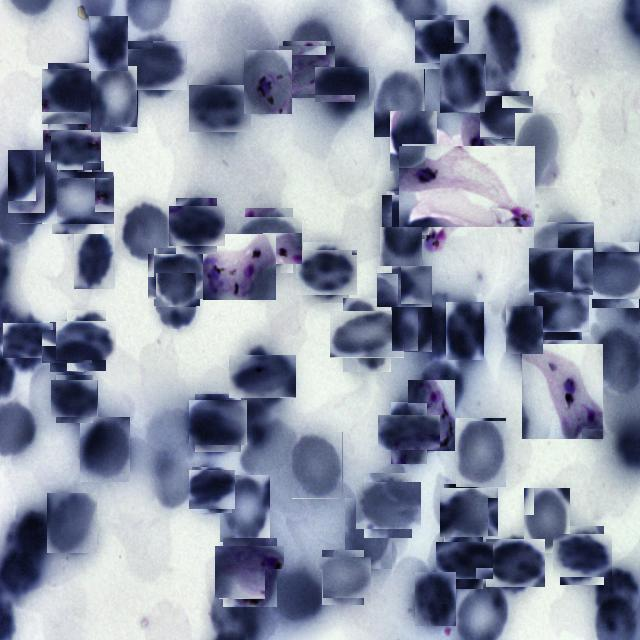red blood cell: (46, 166, 110, 228), (336, 304, 397, 366), (45, 66, 106, 127), (456, 418, 507, 488), (515, 113, 562, 188), (374, 69, 425, 138), (292, 432, 343, 499), (125, 36, 183, 94), (220, 475, 270, 542), (345, 498, 392, 569), (240, 212, 298, 269), (120, 202, 173, 264), (80, 417, 130, 482), (359, 478, 416, 534), (533, 243, 589, 300), (91, 66, 138, 133), (524, 488, 571, 554), (192, 81, 248, 136), (234, 349, 290, 404), (536, 218, 590, 274), (47, 493, 97, 553), (588, 247, 640, 304), (265, 569, 323, 620), (390, 111, 438, 172), (488, 536, 542, 590), (442, 486, 496, 540), (299, 246, 353, 299), (440, 54, 486, 113), (151, 251, 203, 303), (192, 397, 244, 449), (556, 530, 608, 581), (380, 227, 422, 289), (17, 162, 58, 224), (74, 228, 115, 289), (62, 316, 112, 366), (384, 408, 434, 458), (484, 7, 521, 74), (47, 126, 96, 176), (8, 150, 46, 214), (392, 292, 432, 352), (418, 18, 467, 66), (172, 202, 221, 250), (482, 94, 530, 142), (538, 288, 586, 336), (440, 536, 488, 584), (319, 554, 367, 602), (381, 262, 428, 310), (156, 272, 196, 328), (415, 572, 456, 626), (446, 302, 484, 360), (89, 16, 128, 71), (320, 62, 364, 108), (418, 306, 457, 357), (383, 192, 428, 236), (190, 468, 233, 512), (53, 378, 96, 420), (506, 306, 543, 354), (7, 320, 49, 362), (46, 326, 88, 368)
ring: (408, 378, 455, 451)
trophozoite: (412, 132, 522, 241), (522, 344, 604, 439), (203, 234, 276, 300), (218, 542, 280, 604), (244, 50, 292, 114), (281, 44, 333, 96)
